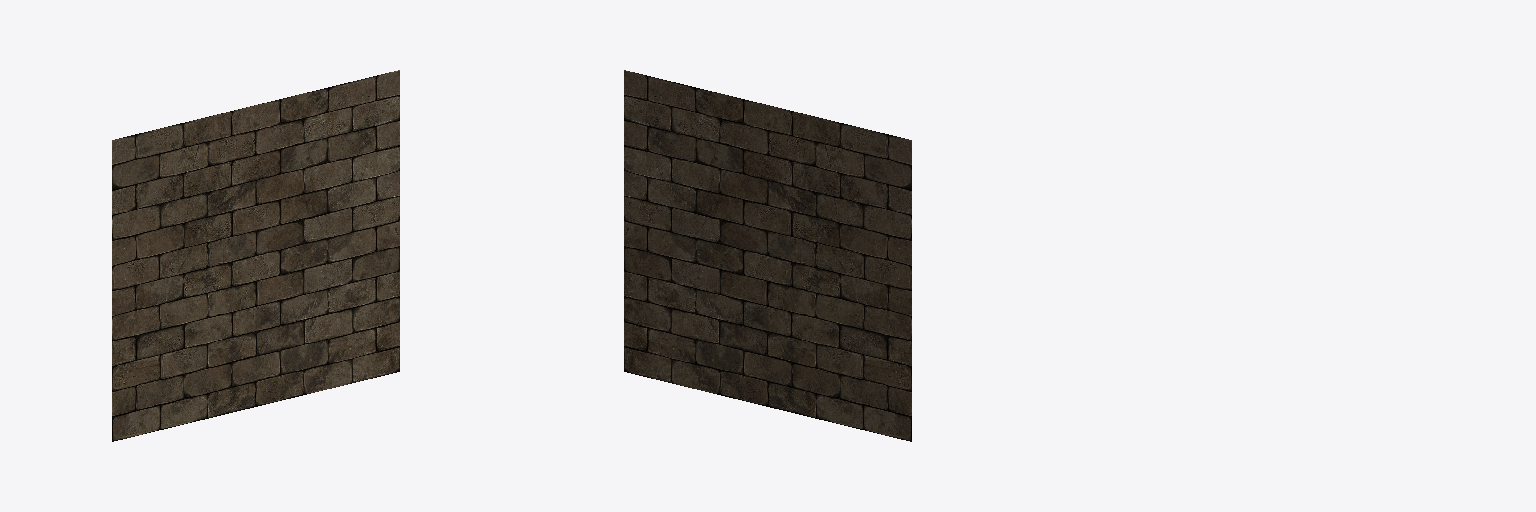
3 renders of one model, left to right at view 1: azimuth 30°, elevation 25°; view 2: azimuth 150°, elevation 25°; view 3: azimuth 270°, elevation 25°, orthographic.
Visible parts, largest first — view 1: Plane; view 2: Plane; view 3: none.
Part boxes in pixels (bbox=[...]): Plane: bbox=[112, 70, 399, 441]; Plane: bbox=[624, 70, 911, 441].
Size of the model in its own units: 2 by 2 by 0.
1 materials, 1 textured.